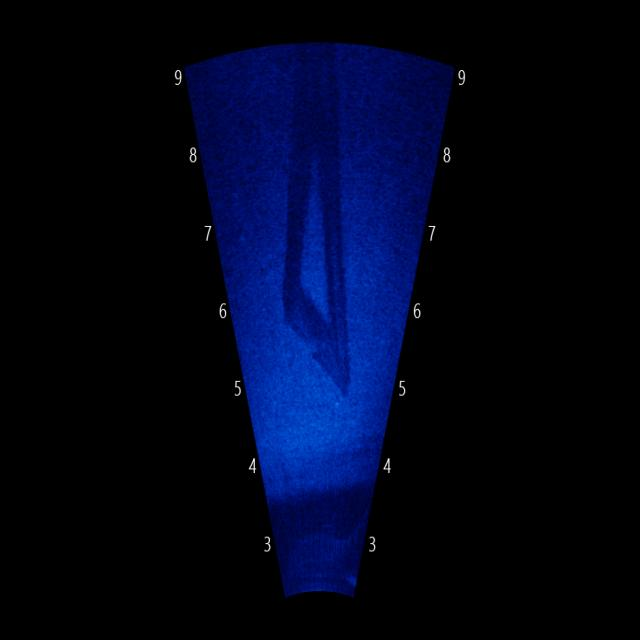triangle: (278, 146, 352, 369)
